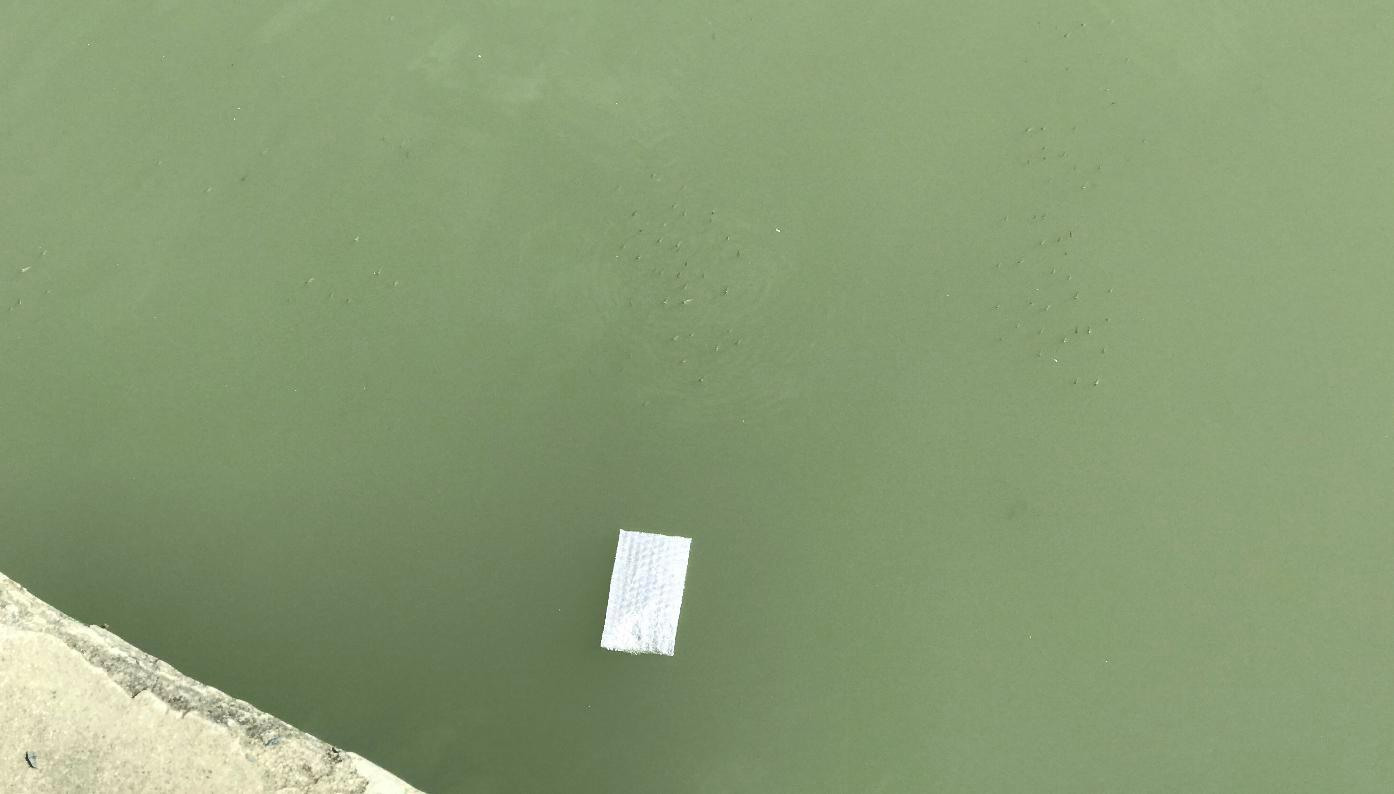Trash: (602, 524, 695, 660)
